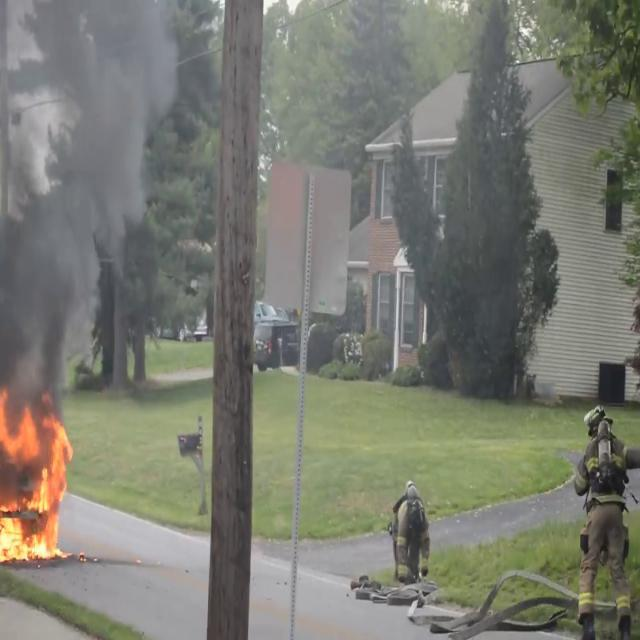Fire: (0, 389, 74, 567)
Smoke: (0, 0, 166, 411)
